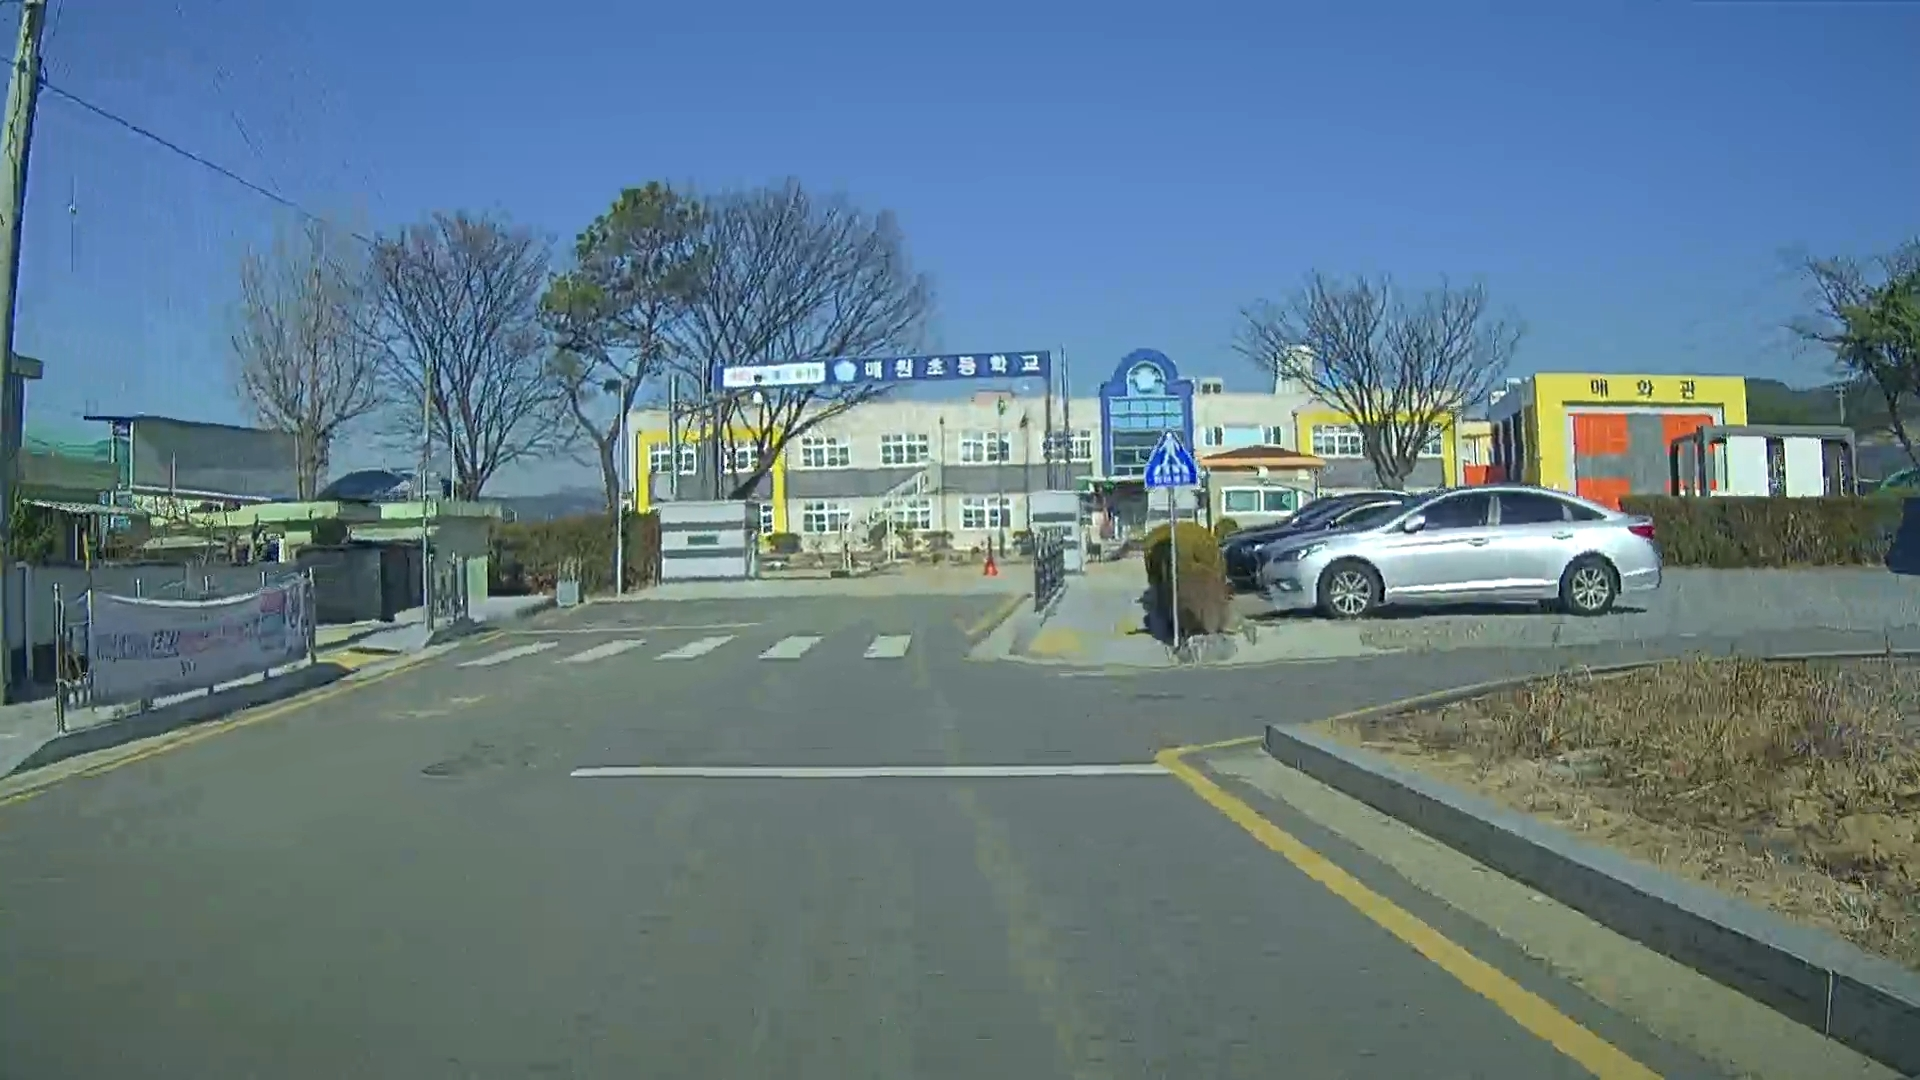trafficSignTri: (1139, 429, 1201, 495)
